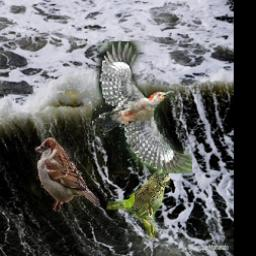Sparrow: (35, 137, 100, 212), (107, 171, 171, 239)
Woodpecker: (93, 41, 193, 173)
